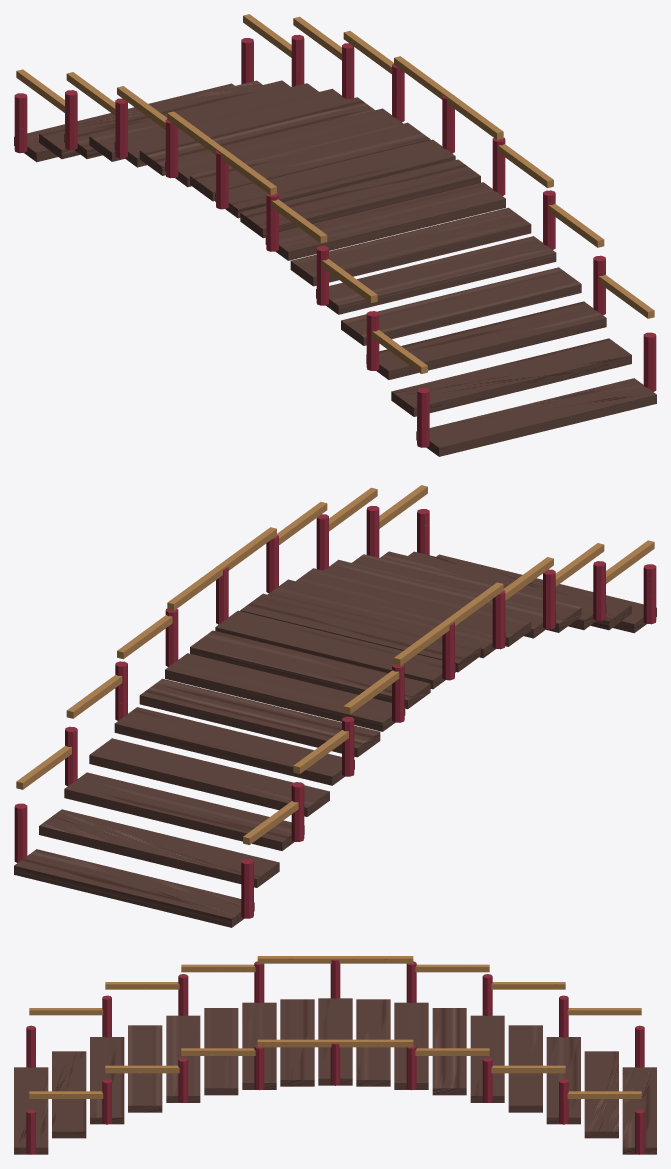
The model's file is shogun_canal_arch_bridge_lod0.glb.
The picture shows the model from 3 angles, top to bottom: view 1: azimuth 30°, elevation 25°; view 2: azimuth 150°, elevation 25°; view 3: azimuth 270°, elevation 25°; orthographic projection. The views are drawn at different scales.
Visible parts, largest first — view 1: shogun_canal_arch_bridge_016, shogun_canal_arch_bridge_015, shogun_canal_arch_bridge_013, shogun_canal_arch_bridge_012, shogun_canal_arch_bridge_010, shogun_canal_arch_bridge_014, shogun_canal_arch_bridge_011, shogun_canal_arch_bridge_009, shogun_canal_arch_bridge_008, shogun_canal_arch_bridge_007, shogun_canal_arch_bridge_006, shogun_canal_arch_bridge_005 (+38 smaller); view 2: shogun_canal_arch_bridge_000, shogun_canal_arch_bridge_001, shogun_canal_arch_bridge_003, shogun_canal_arch_bridge_004, shogun_canal_arch_bridge_006, shogun_canal_arch_bridge_002, shogun_canal_arch_bridge_005, shogun_canal_arch_bridge_007, shogun_canal_arch_bridge_008, shogun_canal_arch_bridge_009, shogun_canal_arch_bridge_010, shogun_canal_arch_bridge_011 (+38 smaller); view 3: shogun_canal_arch_bridge_003, shogun_canal_arch_bridge_007, shogun_canal_arch_bridge_009, shogun_canal_arch_bridge_013, shogun_canal_arch_bridge_001, shogun_canal_arch_bridge_005, shogun_canal_arch_bridge_011, shogun_canal_arch_bridge_015, shogun_canal_arch_bridge_000, shogun_canal_arch_bridge_016, shogun_canal_arch_bridge_008, shogun_canal_arch_bridge_006 (+39 smaller).
Part boxes in pixels (x1,y1,x2,y2): shogun_canal_arch_bridge_016: [416, 378, 656, 456]; shogun_canal_arch_bridge_015: [391, 338, 631, 416]; shogun_canal_arch_bridge_013: [341, 267, 581, 345]; shogun_canal_arch_bridge_012: [316, 236, 556, 314]; shogun_canal_arch_bridge_010: [265, 182, 505, 260]; shogun_canal_arch_bridge_014: [366, 301, 606, 379]; shogun_canal_arch_bridge_011: [290, 207, 531, 286]; shogun_canal_arch_bridge_009: [240, 159, 480, 238]; shogun_canal_arch_bridge_008: [215, 139, 455, 218]; shogun_canal_arch_bridge_007: [190, 122, 430, 201]; shogun_canal_arch_bridge_006: [165, 108, 402, 187]; shogun_canal_arch_bridge_005: [139, 97, 374, 175]; shogun_canal_arch_bridge_000: [14, 849, 254, 927]; shogun_canal_arch_bridge_001: [39, 809, 279, 887]; shogun_canal_arch_bridge_003: [89, 738, 329, 816]; shogun_canal_arch_bridge_004: [114, 707, 354, 785]; shogun_canal_arch_bridge_006: [165, 653, 405, 731]; shogun_canal_arch_bridge_002: [64, 772, 304, 850]; shogun_canal_arch_bridge_005: [139, 678, 380, 757]; shogun_canal_arch_bridge_007: [190, 630, 430, 709]; shogun_canal_arch_bridge_008: [215, 610, 455, 689]; shogun_canal_arch_bridge_009: [240, 593, 480, 672]; shogun_canal_arch_bridge_010: [268, 579, 505, 658]; shogun_canal_arch_bridge_011: [296, 568, 531, 646]; shogun_canal_arch_bridge_003: [508, 1025, 542, 1112]; shogun_canal_arch_bridge_007: [356, 999, 390, 1086]; shogun_canal_arch_bridge_009: [280, 999, 314, 1086]; shogun_canal_arch_bridge_013: [128, 1025, 162, 1112]; shogun_canal_arch_bridge_001: [584, 1051, 618, 1138]; shogun_canal_arch_bridge_005: [432, 1008, 466, 1095]; shogun_canal_arch_bridge_011: [204, 1008, 238, 1095]; shogun_canal_arch_bridge_015: [52, 1051, 86, 1138]; shogun_canal_arch_bridge_000: [622, 1067, 656, 1154]; shogun_canal_arch_bridge_016: [14, 1067, 48, 1154]; shogun_canal_arch_bridge_008: [318, 998, 352, 1085]; shogun_canal_arch_bridge_006: [394, 1002, 428, 1089].
Bounding box in the file's own units: 5.46 × 3.34 × 16.9.
Materials: 3 (3 with a texture image).
